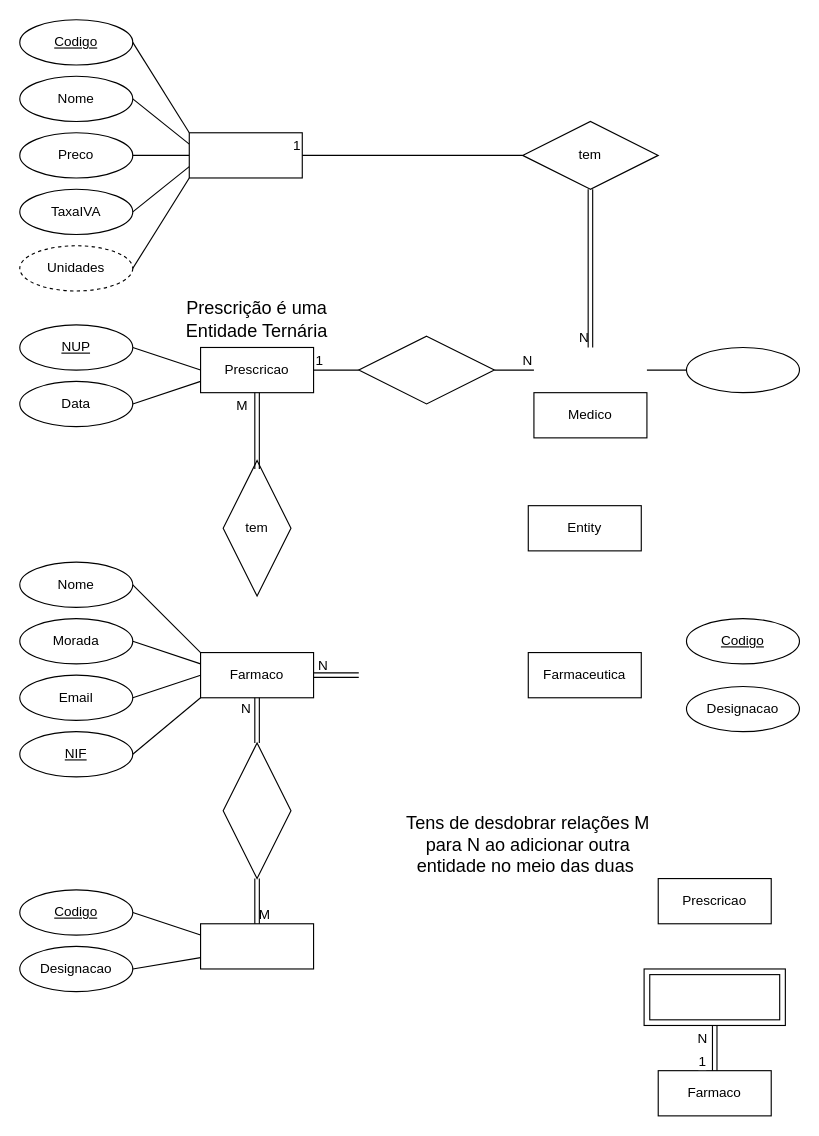
Image size: 819x1136. Some labels were removed from this diagram. The shapes that lost their labels are listed below. From the top down, each one's box as (x1, y1, x2, y2) in pixels, then its label:
(188, 132, 302, 178): Paciente
(358, 335, 494, 404): processa
(685, 346, 799, 393): Quantidade
(222, 742, 291, 879): vende
(199, 923, 314, 969): Farmacia
(643, 968, 785, 1025): Farmaco_Prescricao
